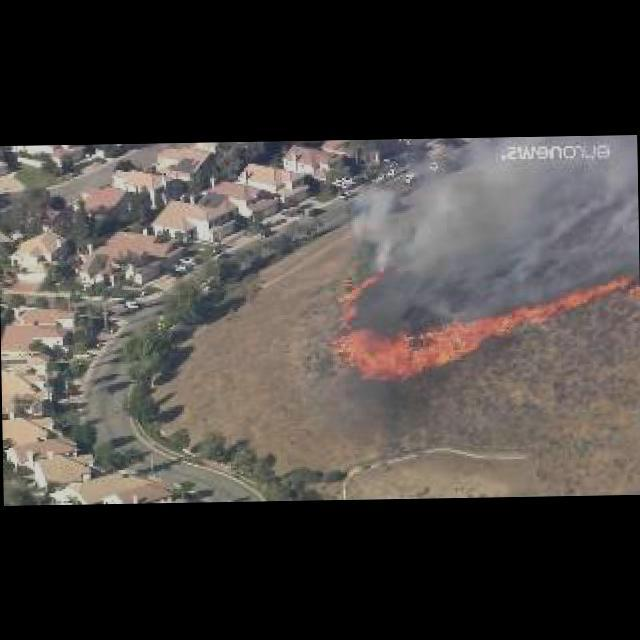Fire: (328, 315, 503, 380), (503, 279, 638, 327), (331, 273, 382, 328)
